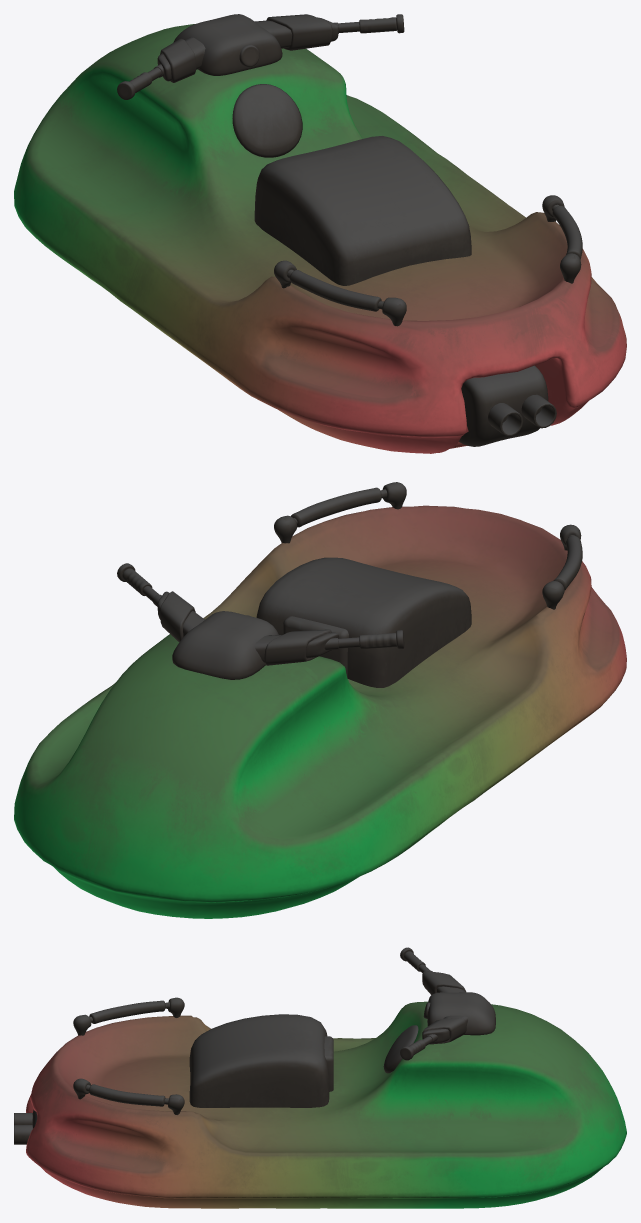
The picture shows the model from 3 angles, top to bottom: view 1: azimuth 30°, elevation 25°; view 2: azimuth 150°, elevation 25°; view 3: azimuth 270°, elevation 25°; orthographic projection. The views are drawn at different scales.
Visible parts, largest first — view 1: base_1, Symmetry39_1; view 2: base_1, Symmetry39_1; view 3: base_1, Symmetry39_1.
Boxes of the visible parts, left/top/right/bottom form: base_1: left=14, top=24, right=626, bottom=453; Symmetry39_1: left=117, top=14, right=582, bottom=446; base_1: left=14, top=505, right=626, bottom=918; Symmetry39_1: left=117, top=482, right=582, bottom=687; base_1: left=26, top=1001, right=626, bottom=1208; Symmetry39_1: left=14, top=947, right=495, bottom=1144.
Bounding box in the file's own units: 98.28 × 66.61 × 199.
Materials: 2 (2 with a texture image).
